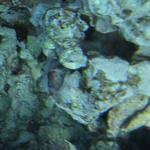dead: (5, 5, 146, 145)
